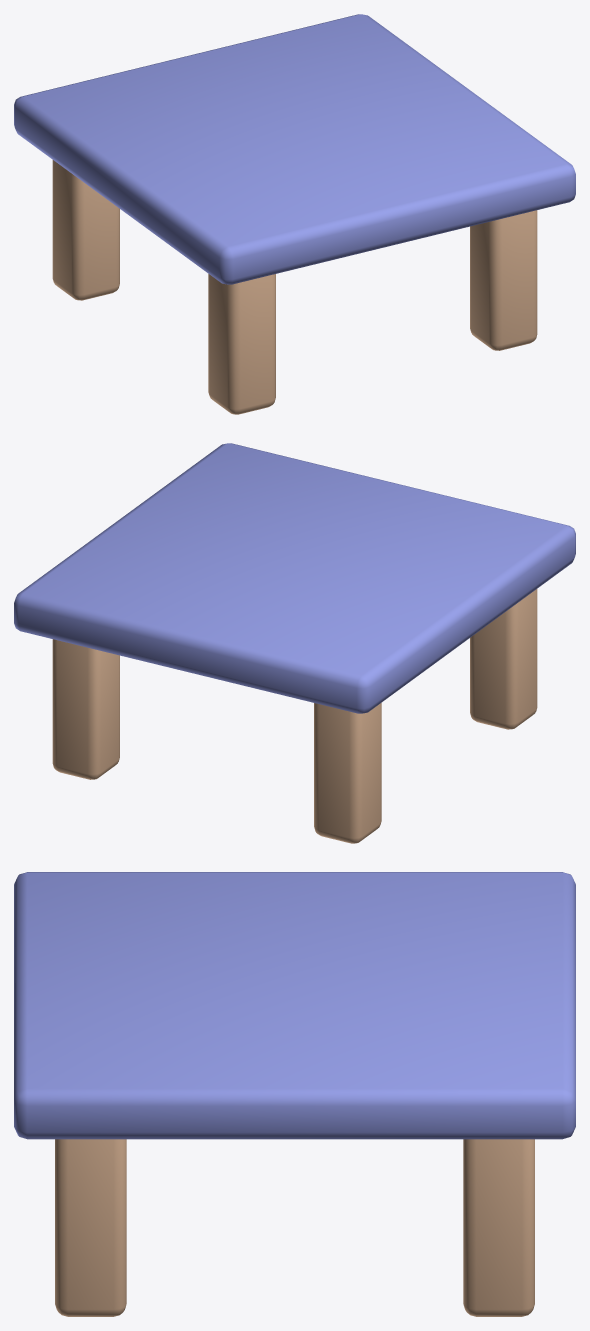
File: table01.fbx
3 views of the same model, one above another, from view 1: azimuth 30°, elevation 25°; view 2: azimuth 150°, elevation 25°; view 3: azimuth 270°, elevation 25° (orthographic). The views are drawn at different scales.
Visible parts, largest first — view 1: Plane.011, Plane.012; view 2: Plane.011, Plane.012; view 3: Plane.011, Plane.012.
Boxes of the visible parts, x1,y1,x2,y2 form: Plane.011: [14, 14, 575, 284]; Plane.012: [52, 160, 537, 414]; Plane.011: [14, 443, 575, 713]; Plane.012: [52, 589, 537, 843]; Plane.011: [14, 872, 575, 1139]; Plane.012: [55, 1139, 534, 1316].
Size of the model in its own units: 329 by 163 by 344.
